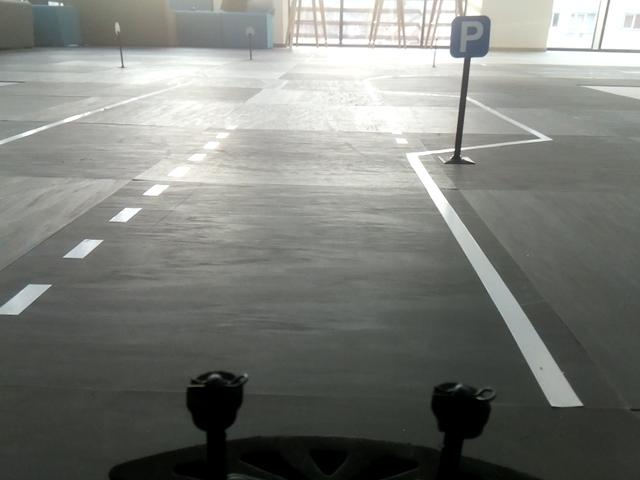parking: (449, 16, 491, 57)
